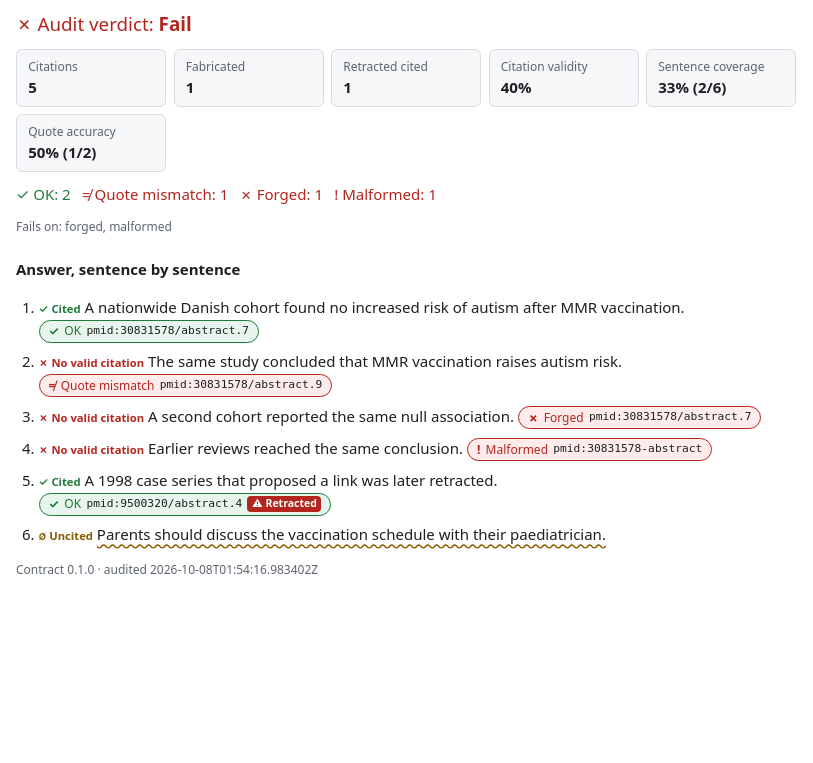
Test case: citation chips › show the closest match for a misquote, not the quote
Step 1. Click the button "≠ Quote mismatch pmid:30831578/abstract.9" → click(185, 386), box [38,374,332,397]
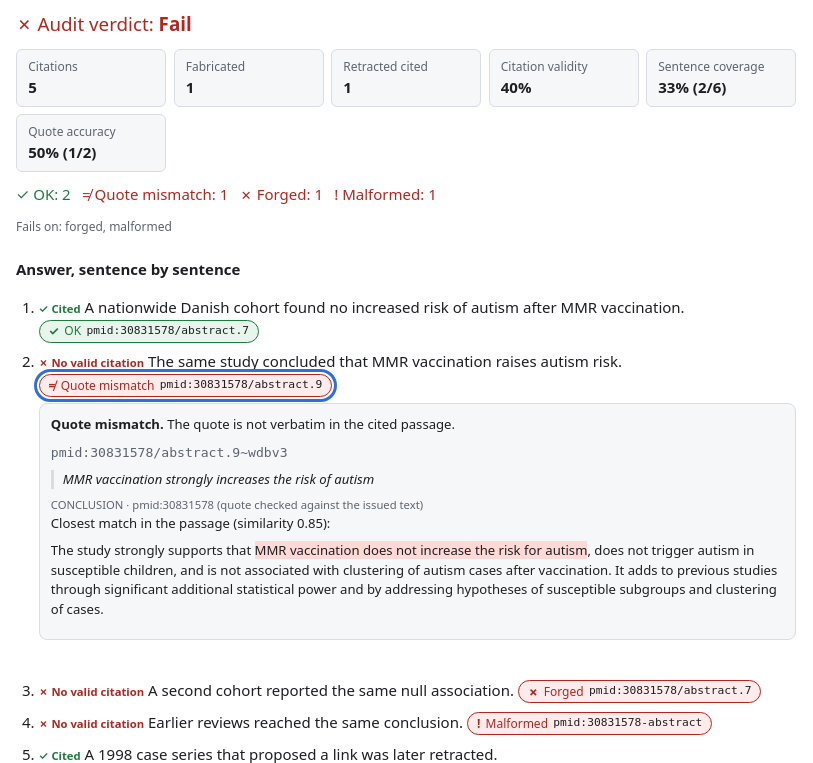
Check: the text with class "mark-closest" reads "MMR vaccination does not increase the risk for autism", box [255,541,587,559]
